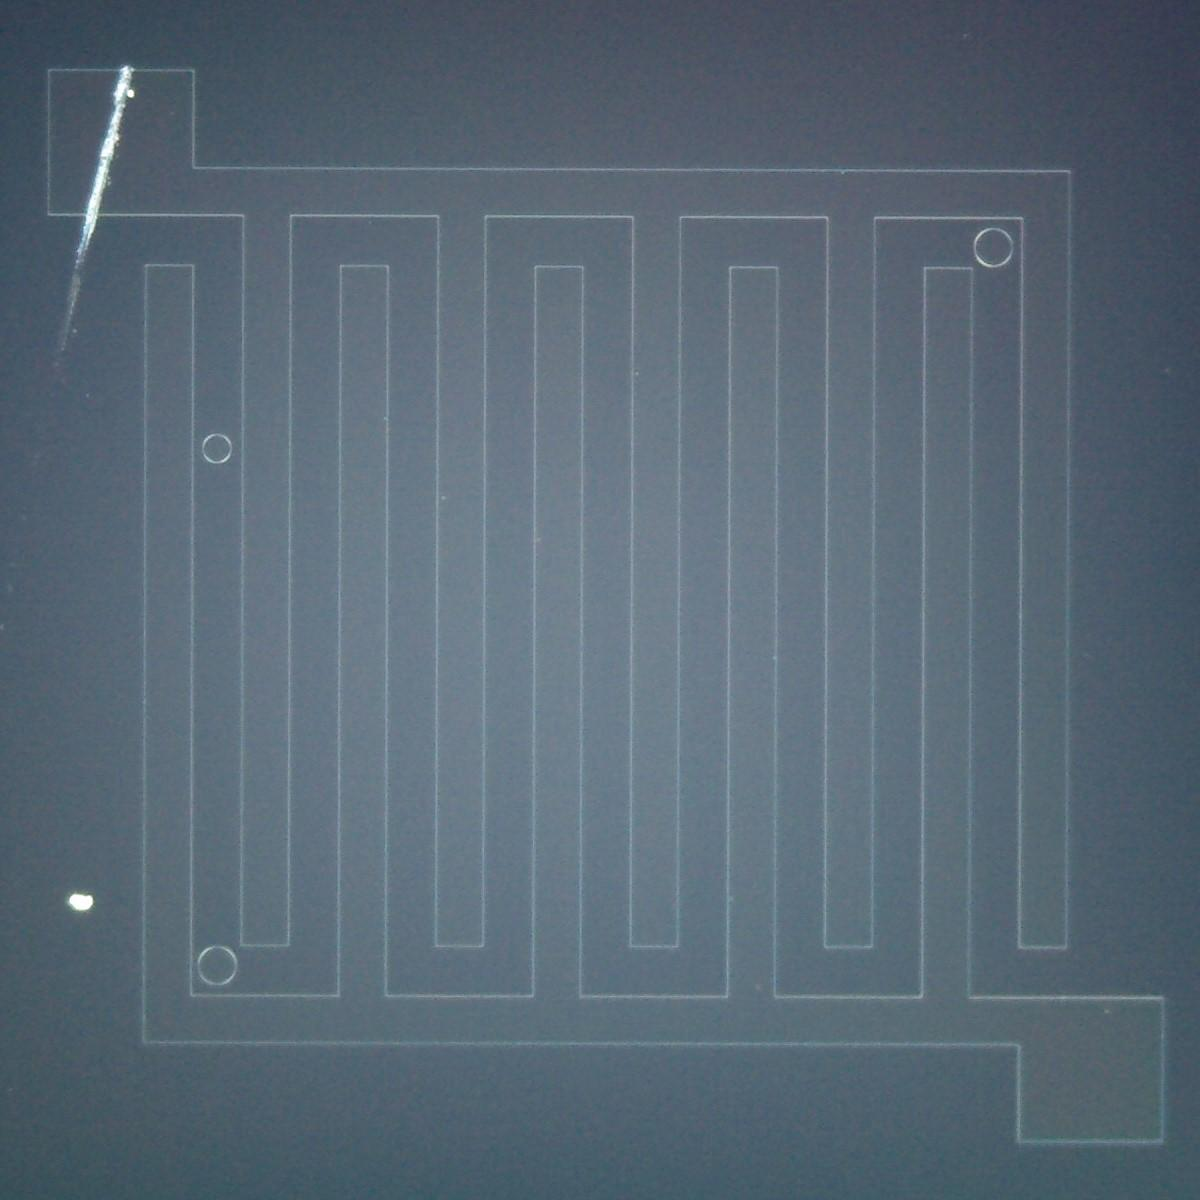B_point: (63, 885, 100, 919)
circle: (973, 225, 1015, 269), (196, 944, 237, 987), (201, 431, 234, 469)
s_point: (0, 578, 24, 600), (78, 386, 97, 408), (1099, 1003, 1118, 1024), (751, 980, 768, 1001), (0, 615, 11, 638), (437, 489, 452, 507), (631, 365, 644, 380)
scratch: (68, 65, 140, 268), (51, 271, 84, 374)
